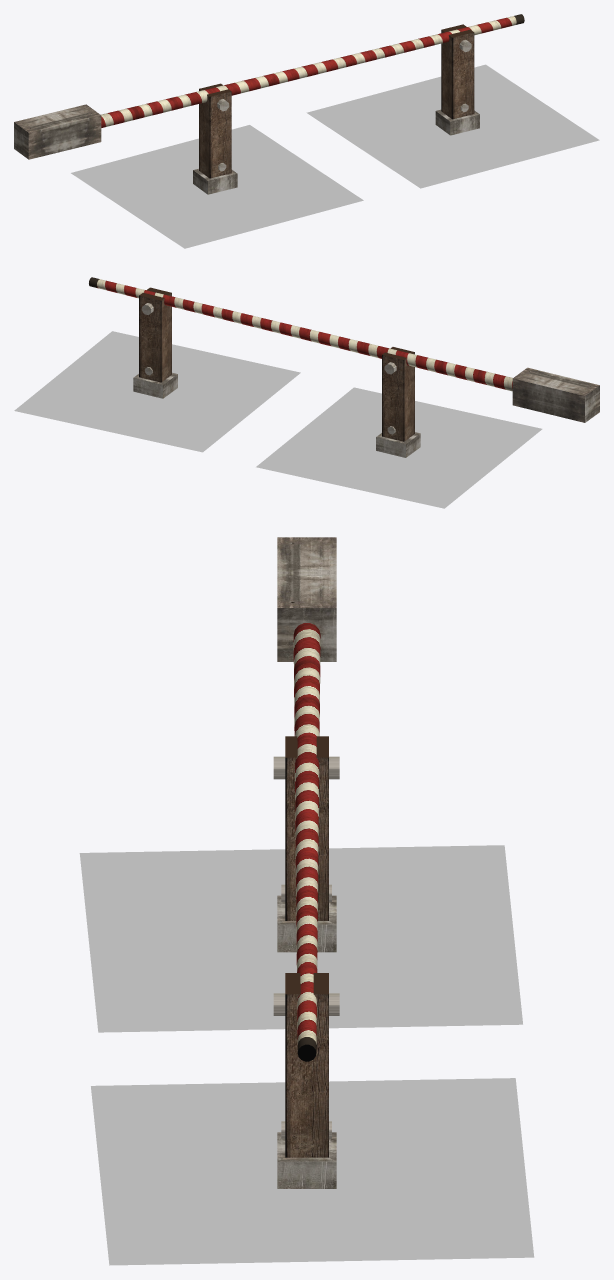
File: checkpoint.fbx
3 renders of one model, top to bottom at view 1: azimuth 30°, elevation 25°; view 2: azimuth 150°, elevation 25°; view 3: azimuth 270°, elevation 25°, orthographic. The views are drawn at different scales.
Visible parts, largest first — view 1: Shadow__1_, pipe, stand_001, stand; view 2: Shadow__1_, pipe, stand_001, stand; view 3: Shadow__1_, pipe, stand_001, stand.
Boxes of the visible parts, x1,y1,x2,y2 form: Shadow__1_: [71, 64, 599, 248]; pipe: [14, 14, 524, 159]; stand_001: [435, 24, 479, 135]; stand: [193, 83, 237, 194]; Shadow__1_: [14, 331, 542, 508]; pipe: [89, 277, 599, 422]; stand_001: [133, 287, 177, 398]; stand: [376, 347, 420, 457]; Shadow__1_: [79, 845, 534, 1265]; pipe: [277, 537, 336, 1061]; stand_001: [273, 973, 339, 1188]; stand: [273, 736, 339, 952].
Bounding box in the file's own units: 563 × 110 × 209.
